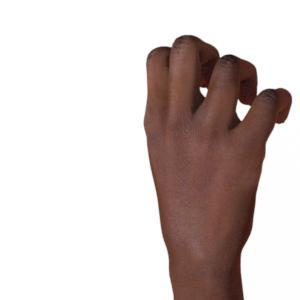rock: (144, 36, 291, 300)
